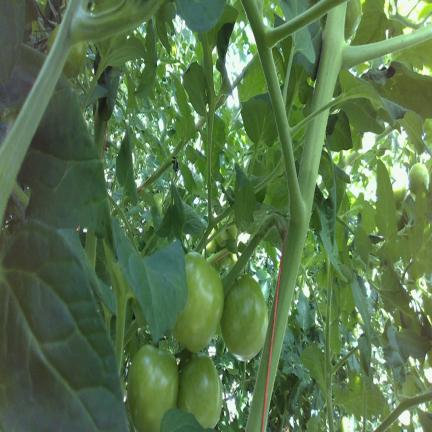6kp_peduncle: (244, 180, 314, 299)
6kp_petiole: (309, 2, 411, 115), (280, 108, 330, 272)
MainStem: (246, 109, 329, 432), (310, 3, 347, 113), (136, 142, 181, 194), (94, 109, 108, 161), (206, 248, 232, 265)
tomato: (173, 252, 224, 352), (127, 345, 179, 431), (220, 274, 268, 361), (177, 353, 222, 428), (47, 25, 86, 78), (409, 163, 429, 193), (216, 230, 229, 247), (154, 193, 163, 216), (217, 254, 231, 268), (206, 239, 217, 254), (227, 224, 238, 239), (146, 219, 153, 232), (231, 253, 237, 263)
